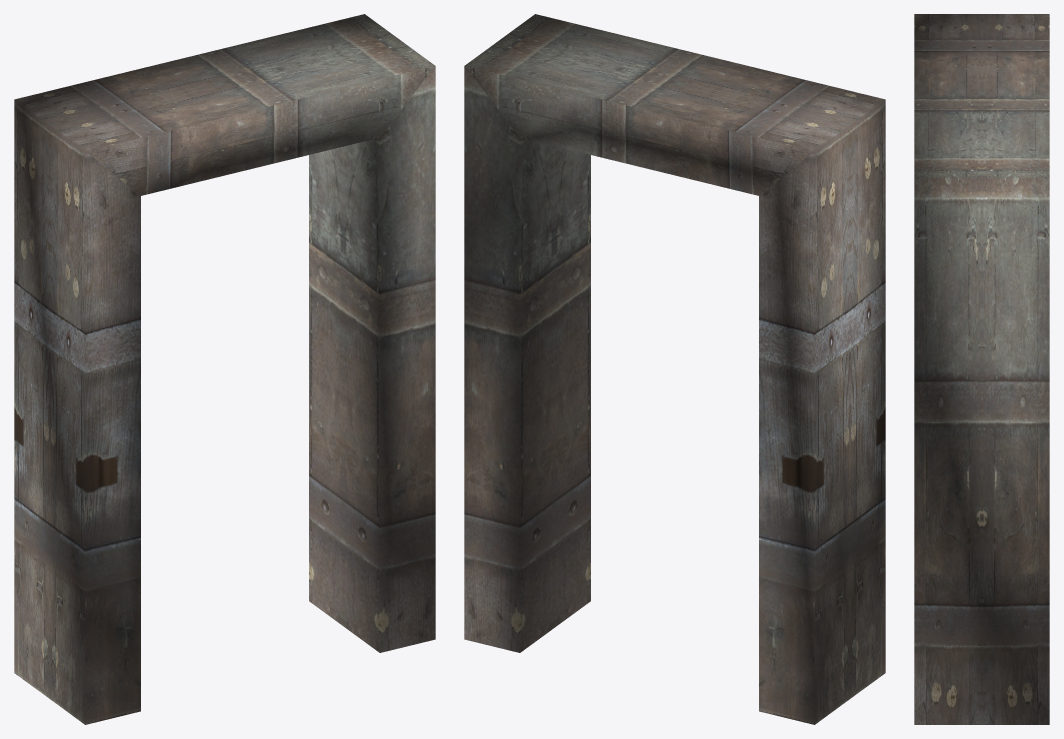
File: doorframe.obj
3 renders of one model, left to right at view 1: azimuth 30°, elevation 25°; view 2: azimuth 150°, elevation 25°; view 3: azimuth 270°, elevation 25°, orthographic. The views are drawn at different scales.
Visible parts, largest first — view 1: MonDoorA; view 2: MonDoorA; view 3: MonDoorA.
Boxes of the visible parts, x1,y1,x2,y2 form: MonDoorA: [14, 14, 435, 724]; MonDoorA: [464, 14, 885, 724]; MonDoorA: [914, 14, 1049, 724].
Bounding box in the file's own units: 60.24 × 94.3 × 21.1.
